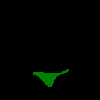mutande: (33, 68, 69, 87)
